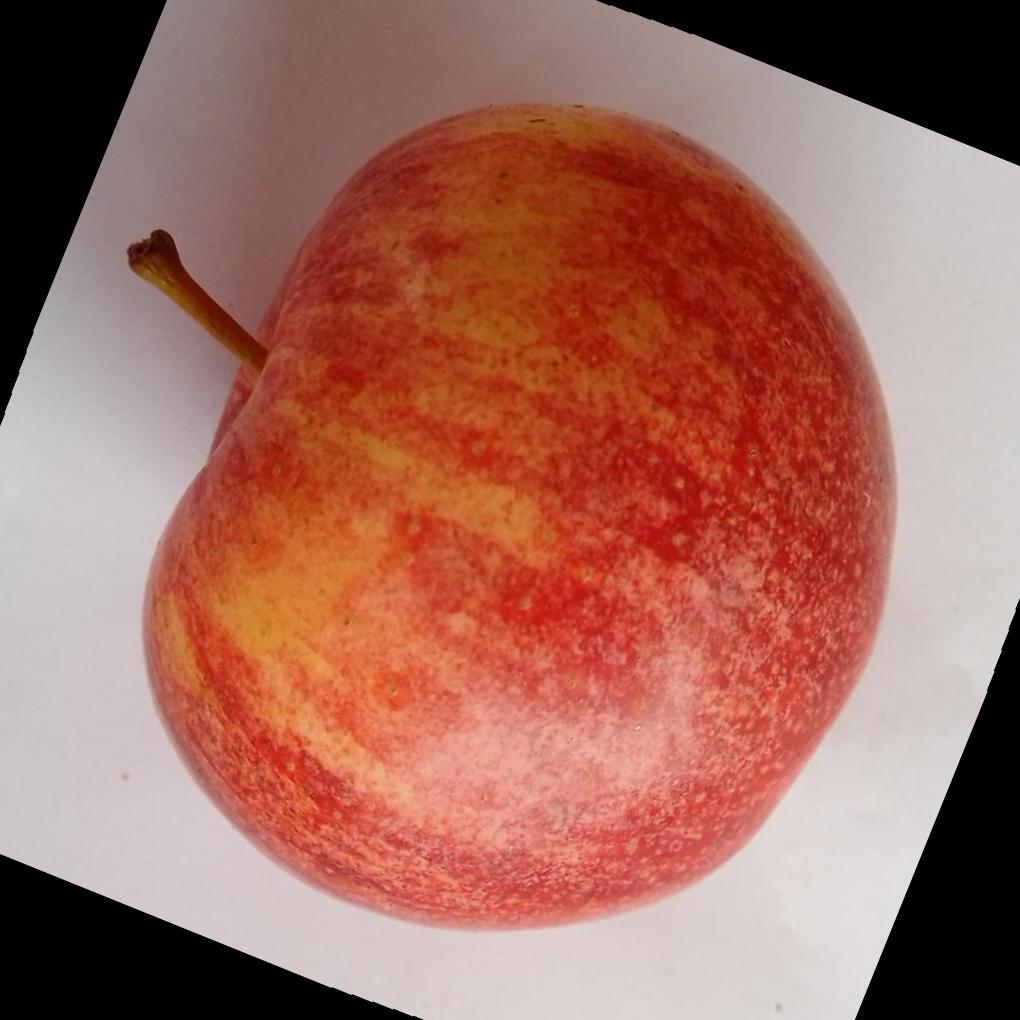FreshGuava: (126, 100, 897, 934)
